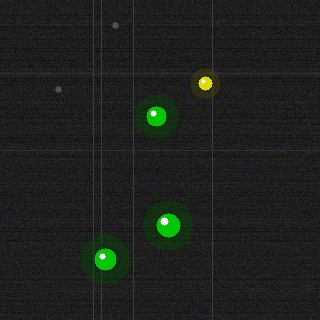green_normal: (154, 211, 182, 239), (92, 246, 118, 272), (144, 104, 168, 128)
yellow_warning: (196, 74, 214, 92)
